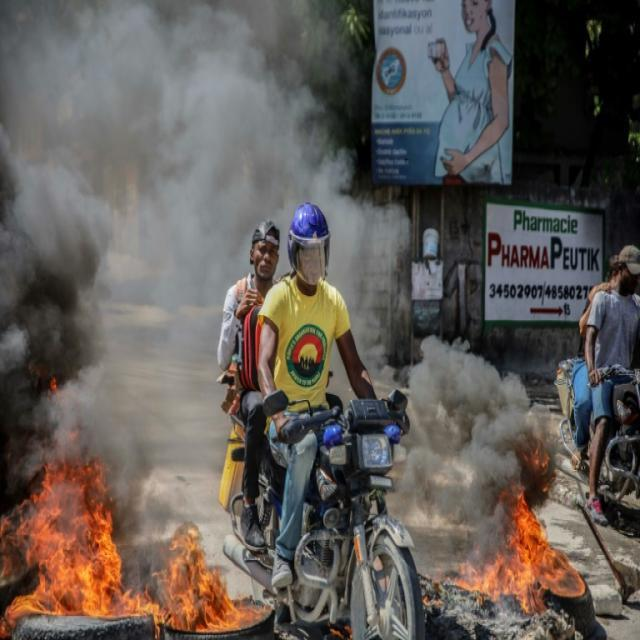Fire: (0, 426, 158, 620), (472, 472, 582, 600), (153, 519, 254, 635)
Smoke: (0, 0, 411, 565), (404, 336, 548, 540)
